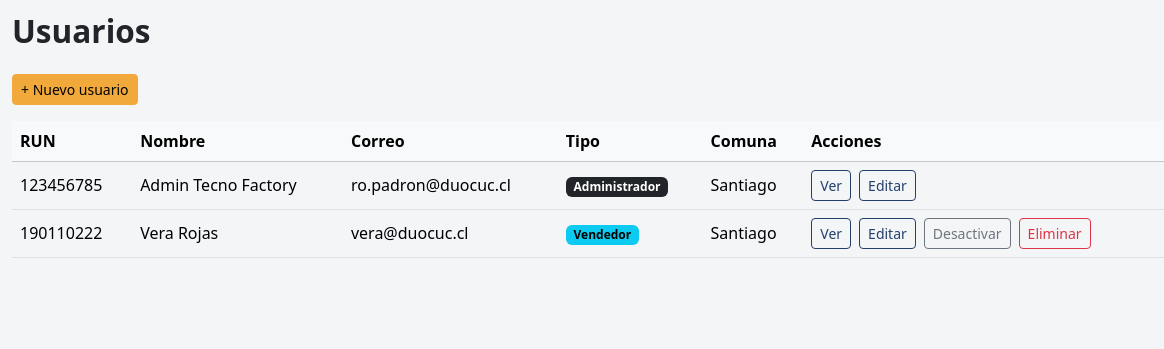
it: Vista AdminUsuarios › desactiva a un vendedor y recarga el listado
Expected: the text "Vera Rojas" is shown, [132,209,343,257]
Click the button "Desactivar" at (967, 233), box [924,218,1011,249]
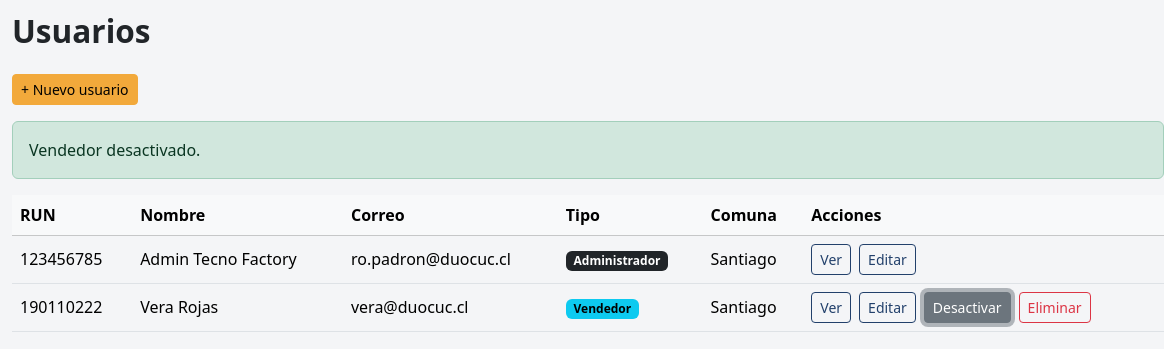
Expected: the message reads "Vendedor desactivado.", [29,139,200,161]
